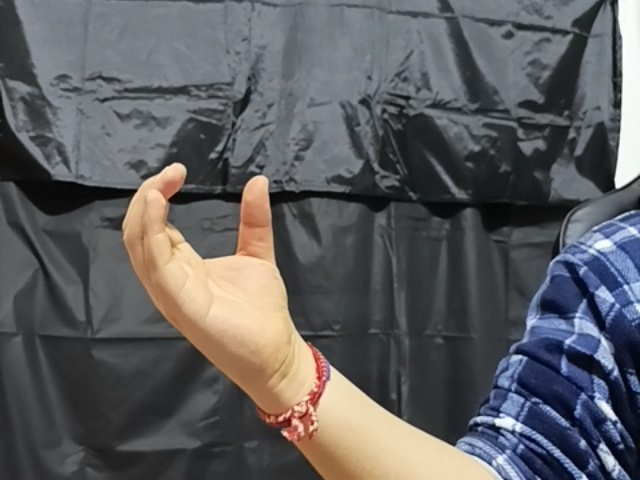C: (123, 163, 319, 371)
